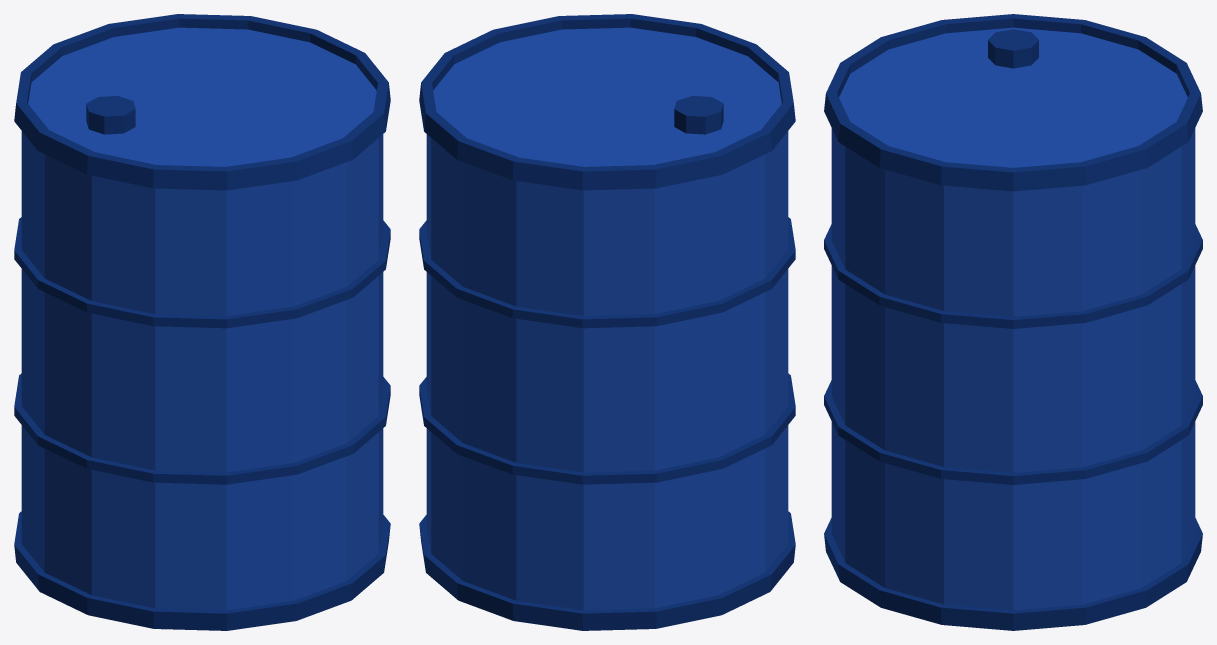
File: IndustrialBarrel.fbx
The picture shows the model from 3 angles, left to right: view 1: azimuth 30°, elevation 25°; view 2: azimuth 150°, elevation 25°; view 3: azimuth 270°, elevation 25°; orthographic projection.
Visible parts, largest first — view 1: Cylinder; view 2: Cylinder; view 3: Cylinder.
Boxes of the visible parts, x1,y1,x2,y2 form: Cylinder: [14, 14, 390, 630]; Cylinder: [419, 14, 795, 630]; Cylinder: [824, 14, 1202, 630].
Size of the model in its own units: 208 by 208 by 283.
